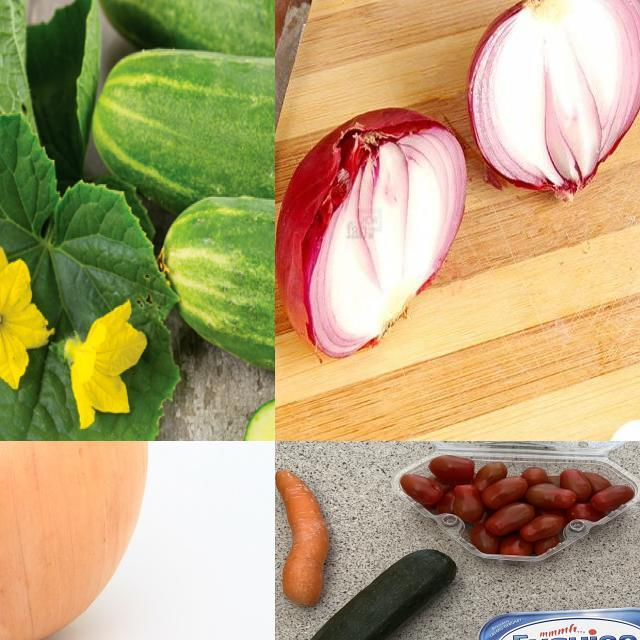carrot: (276, 459, 339, 613)
cucumber: (92, 47, 276, 247), (157, 197, 276, 389), (99, 1, 276, 104)
onion: (276, 103, 471, 365), (467, 1, 640, 204), (1, 442, 148, 640)
tomato: (425, 456, 585, 531)
zucchini: (276, 548, 452, 640)
